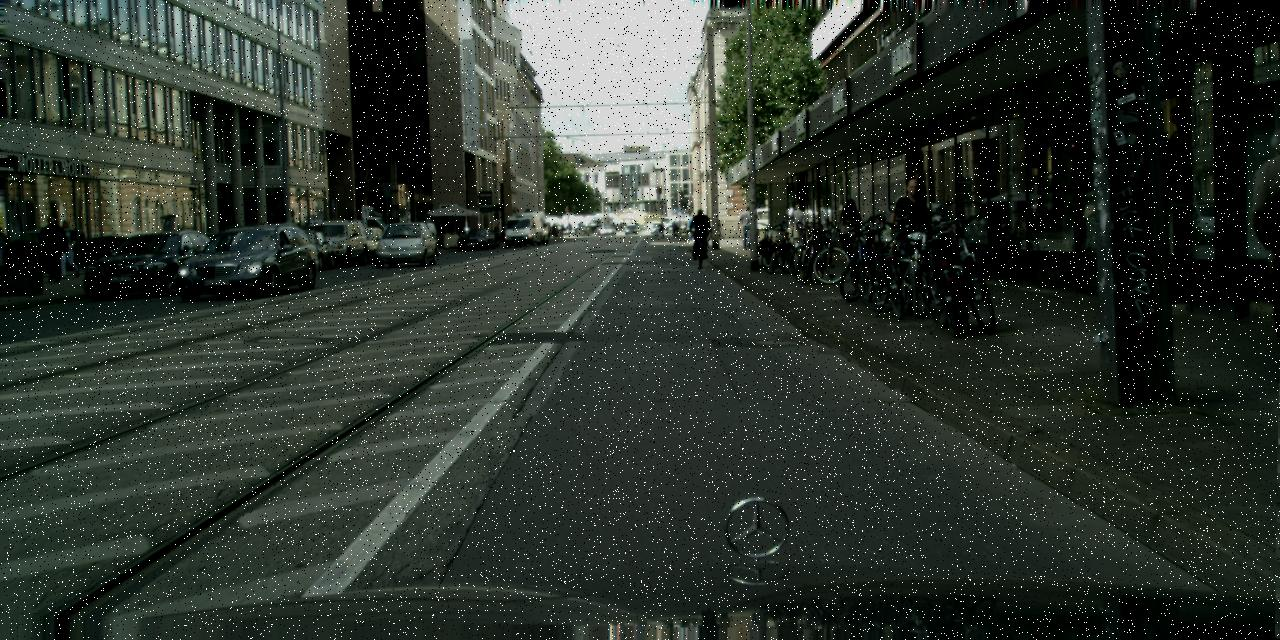ped: (891, 178, 932, 282), (38, 216, 66, 282), (836, 198, 862, 263), (56, 219, 80, 277), (690, 208, 711, 260), (789, 203, 807, 249), (738, 206, 755, 248), (686, 212, 698, 241), (672, 222, 677, 236), (658, 224, 663, 237)
